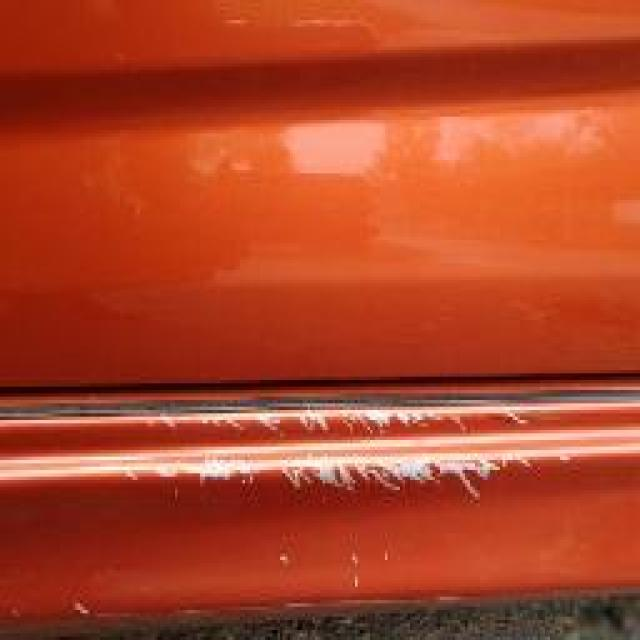Bumper: (110, 377, 588, 553)
